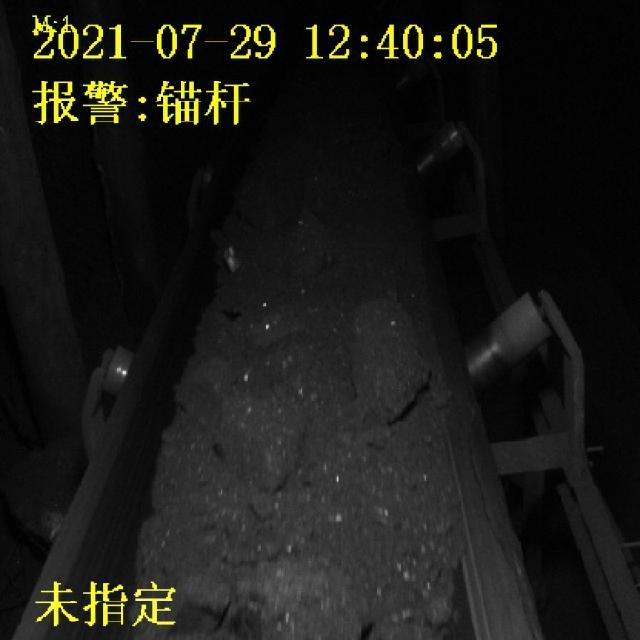large_sized_coal: (235, 563, 378, 640), (216, 391, 304, 492), (356, 302, 426, 428), (276, 215, 332, 277), (174, 354, 232, 411), (178, 577, 236, 615)
